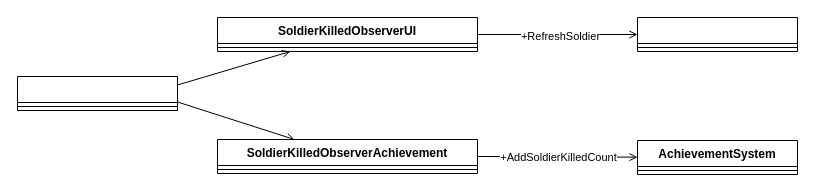
This 815x192 diagram has some shape labels left out. Here are the shapes that lost their labels. From the top down, the box of each, then its label:
(636, 16, 798, 52): SoldierInfoUI
(16, 76, 178, 110): SoldierKilledSubject
